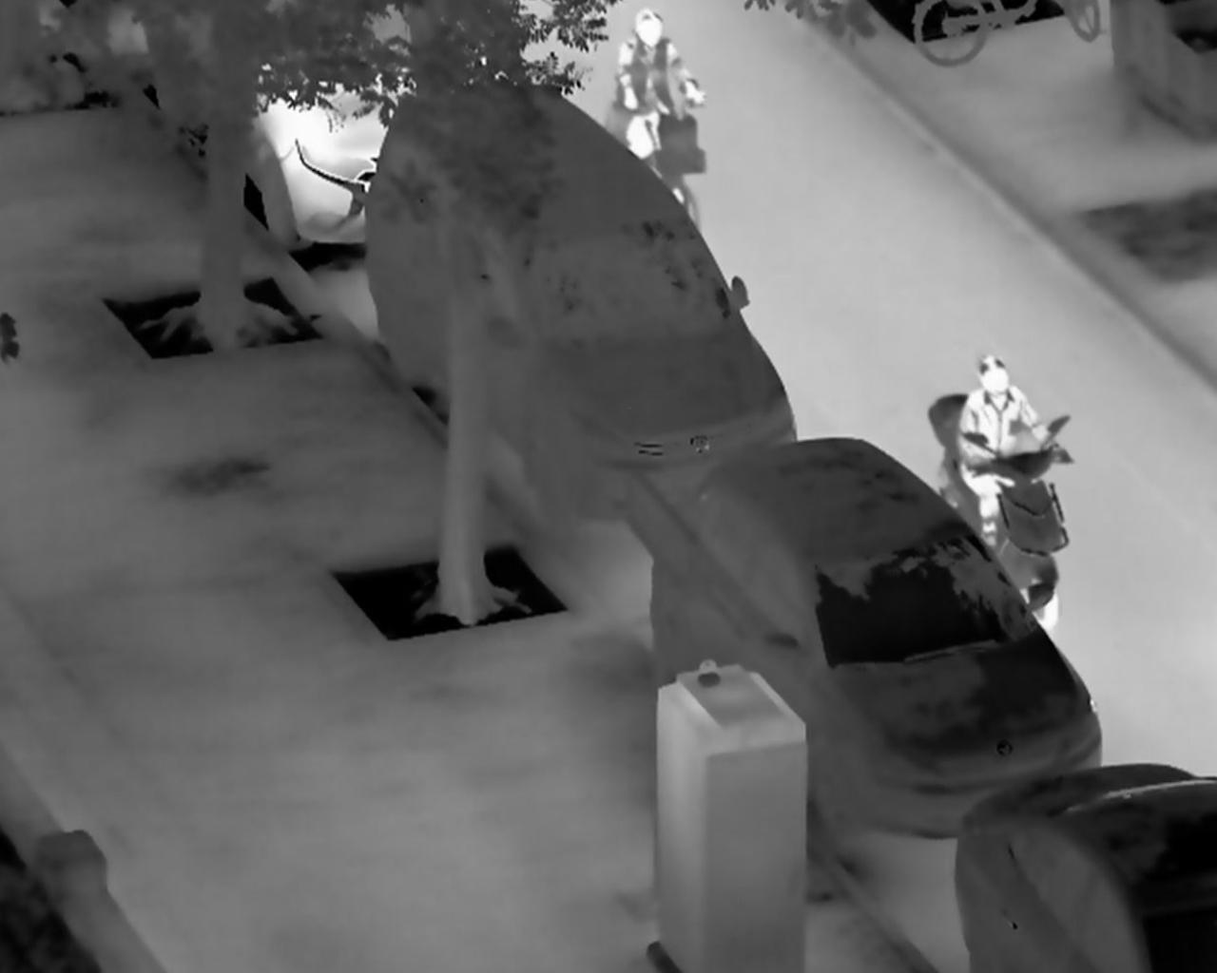person: (955, 353, 1063, 553), (612, 9, 709, 167)
